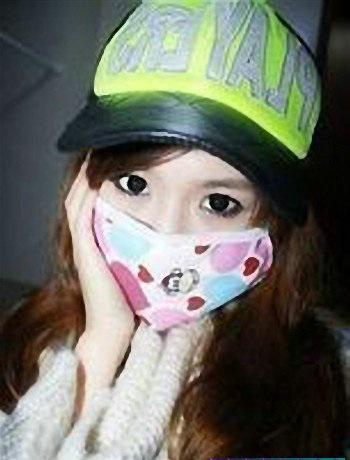OK: (94, 157, 266, 329)
